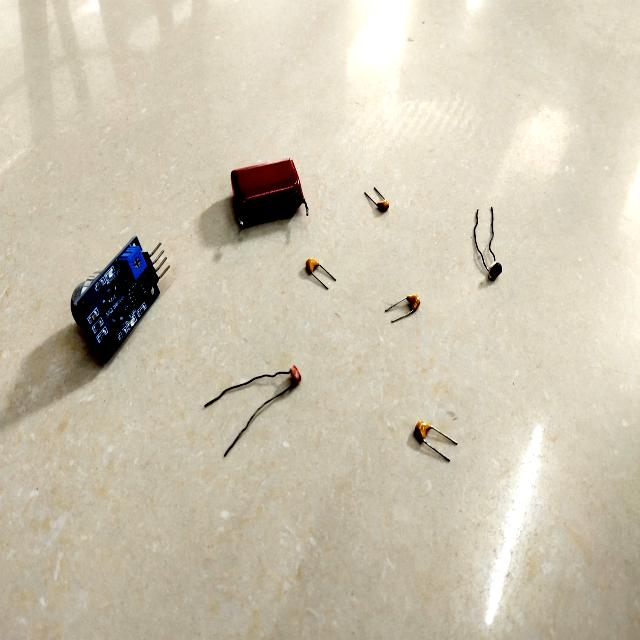capacitor: (232, 161, 303, 228), (304, 259, 333, 286), (390, 296, 420, 319), (413, 423, 431, 444), (377, 201, 389, 213)
